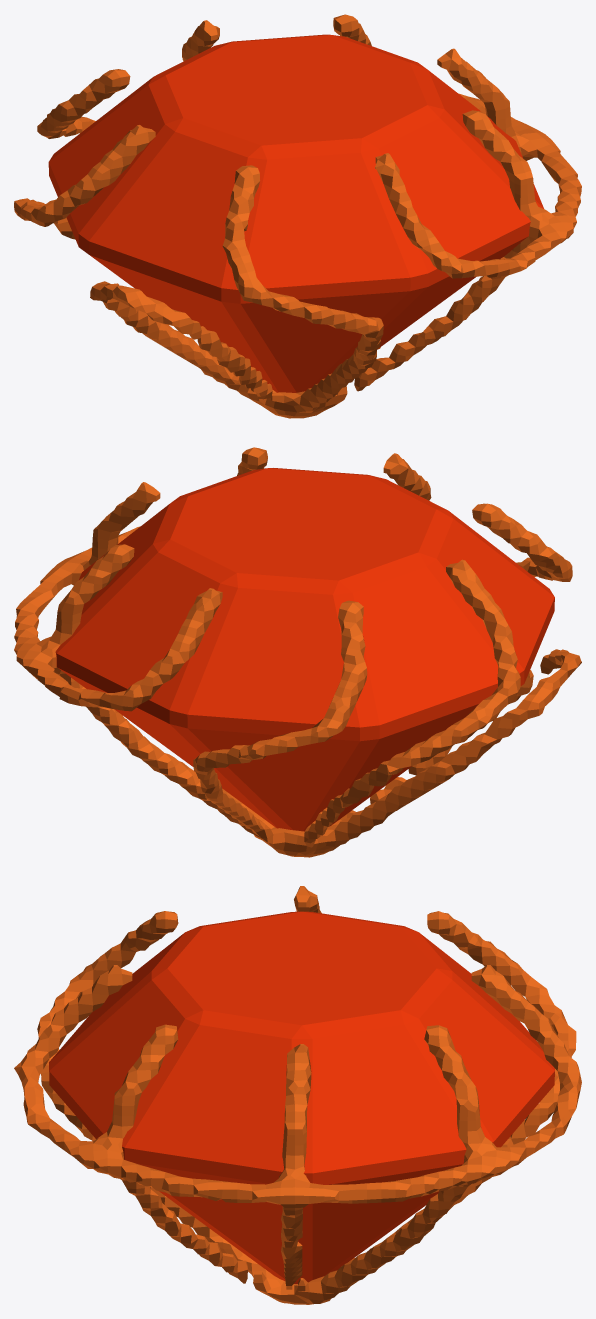
The model's file is GemWithCrown.fbx.
3 views of the same model, one above another, from view 1: azimuth 30°, elevation 25°; view 2: azimuth 150°, elevation 25°; view 3: azimuth 270°, elevation 25° (orthographic). The views are drawn at different scales.
Visible parts, largest first — view 1: Gem-With-Crown, Gem-Crown-Setting; view 2: Gem-With-Crown, Gem-Crown-Setting; view 3: Gem-With-Crown, Gem-Crown-Setting.
Part boxes in pixels (x1,y1,x2,y2): Gem-With-Crown: [48, 34, 543, 392]; Gem-Crown-Setting: [14, 14, 581, 418]; Gem-With-Crown: [55, 468, 554, 831]; Gem-Crown-Setting: [14, 447, 581, 857]; Gem-With-Crown: [49, 911, 554, 1283]; Gem-Crown-Setting: [14, 886, 581, 1304].
Bounding box in the file's own units: 43.6 × 27.94 × 43.28.
